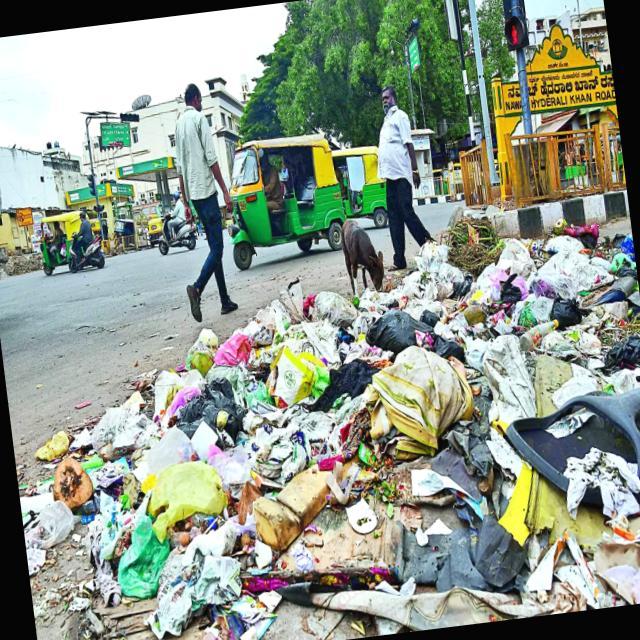garbage: (28, 223, 639, 639)
